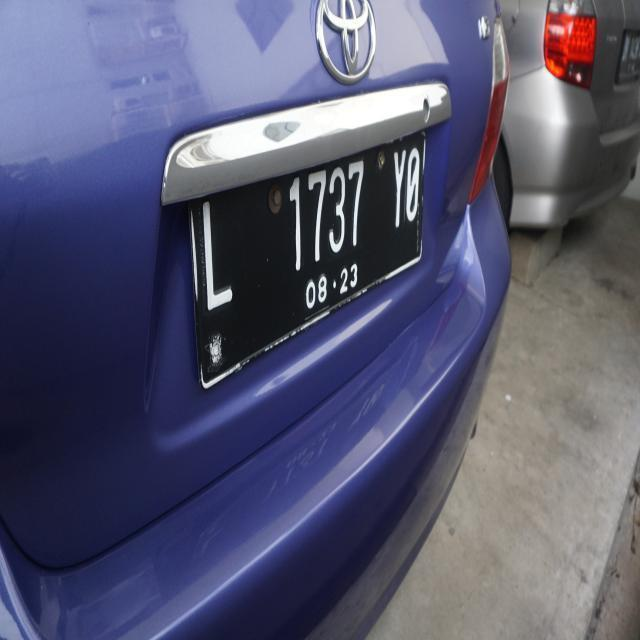1: (280, 176, 310, 276)
3: (323, 166, 348, 254)
7: (302, 161, 330, 261), (346, 154, 366, 244)
L: (194, 202, 238, 316)
O: (402, 140, 420, 228)
Y: (390, 140, 406, 228)
